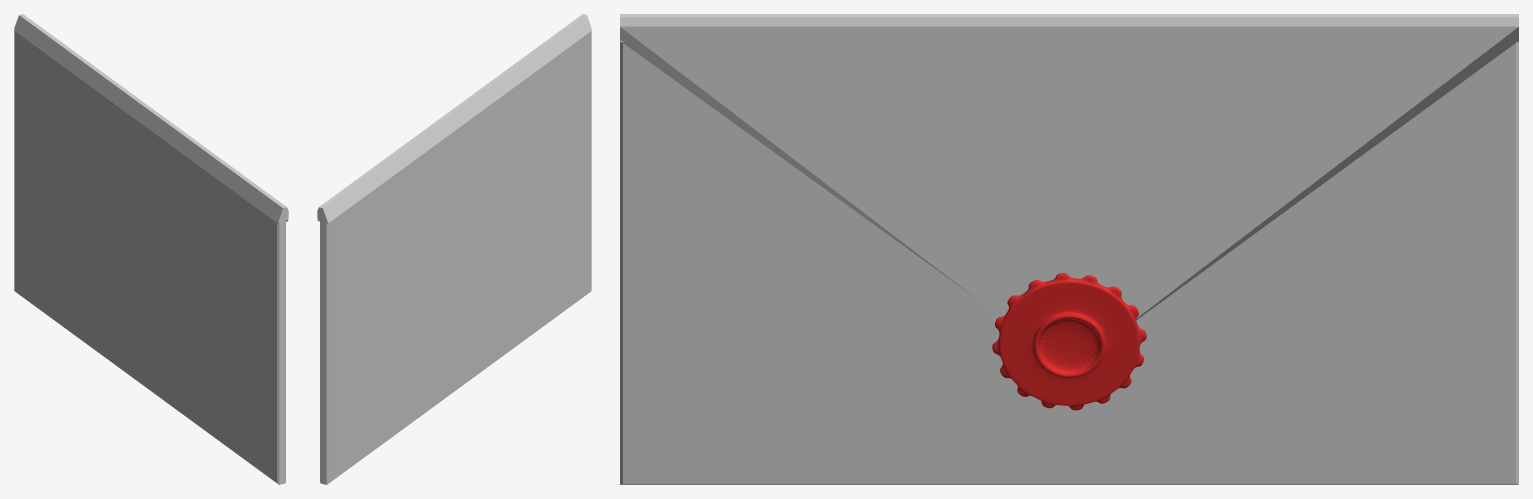
Rendered from Letter_Kikl.fbx.
The picture shows the model from 3 angles, left to right: view 1: azimuth 30°, elevation 25°; view 2: azimuth 150°, elevation 25°; view 3: azimuth 270°, elevation 25°; orthographic projection. The views are drawn at different scales.
Visible parts, largest first — view 1: Cube.019; view 2: Cube.019; view 3: Cube.019, Cylinder.015.
Boxes of the visible parts, <box> form: Cube.019: <box>14,14,288,484</box>; Cube.019: <box>317,14,591,484</box>; Cube.019: <box>620,14,1518,484</box>; Cylinder.015: <box>992,273,1146,410</box>.
Size of the model in its own units: 12.8 by 182 by 316.
